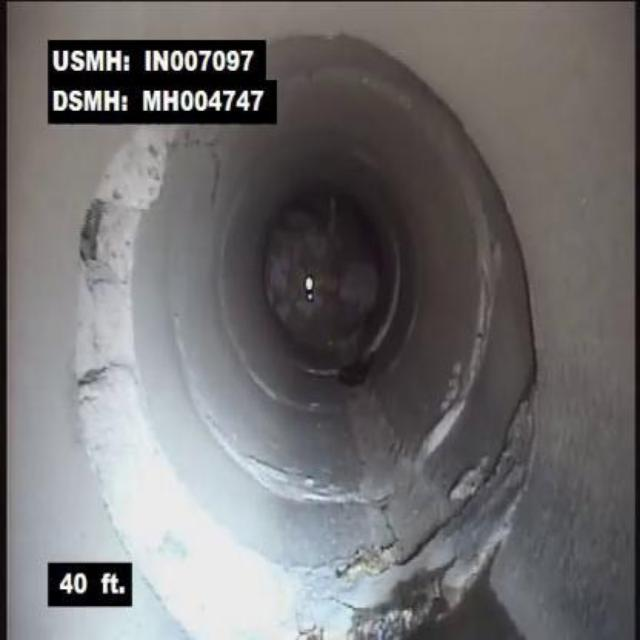Joint offset: (54, 140, 192, 557)
